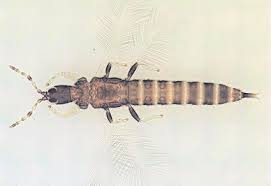Phlaeothripidae: (4, 61, 268, 130)
